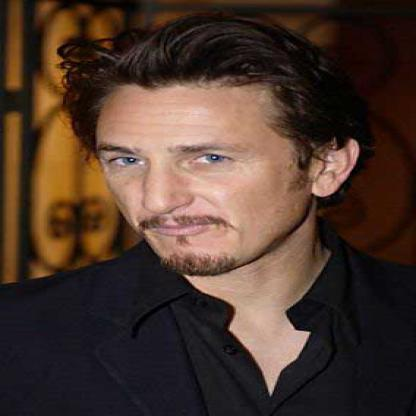face: (91, 49, 317, 279)
